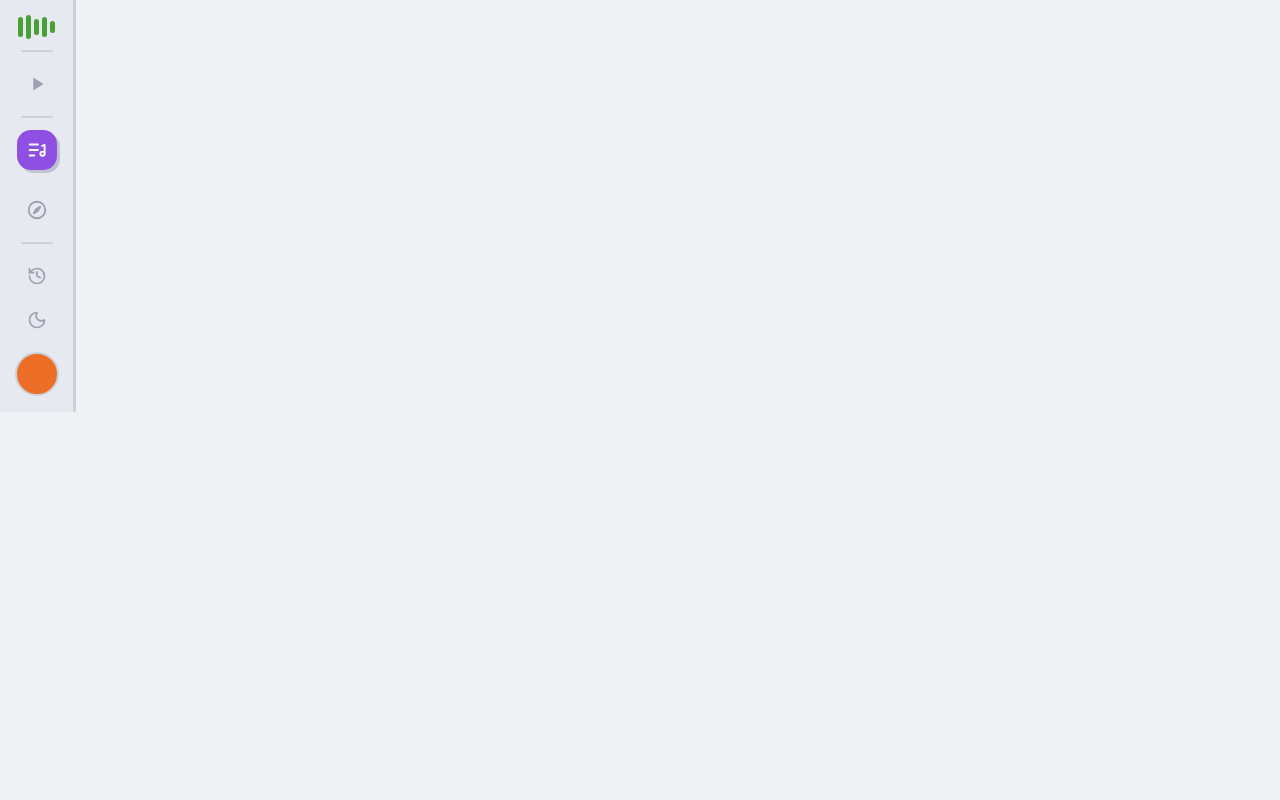
AppSidebar lobby menu › explains an unknown code
The image size is (1280, 800).
Click the button titled "Start or join a lobby".
click(36, 84)  # box [16,64,56,104]
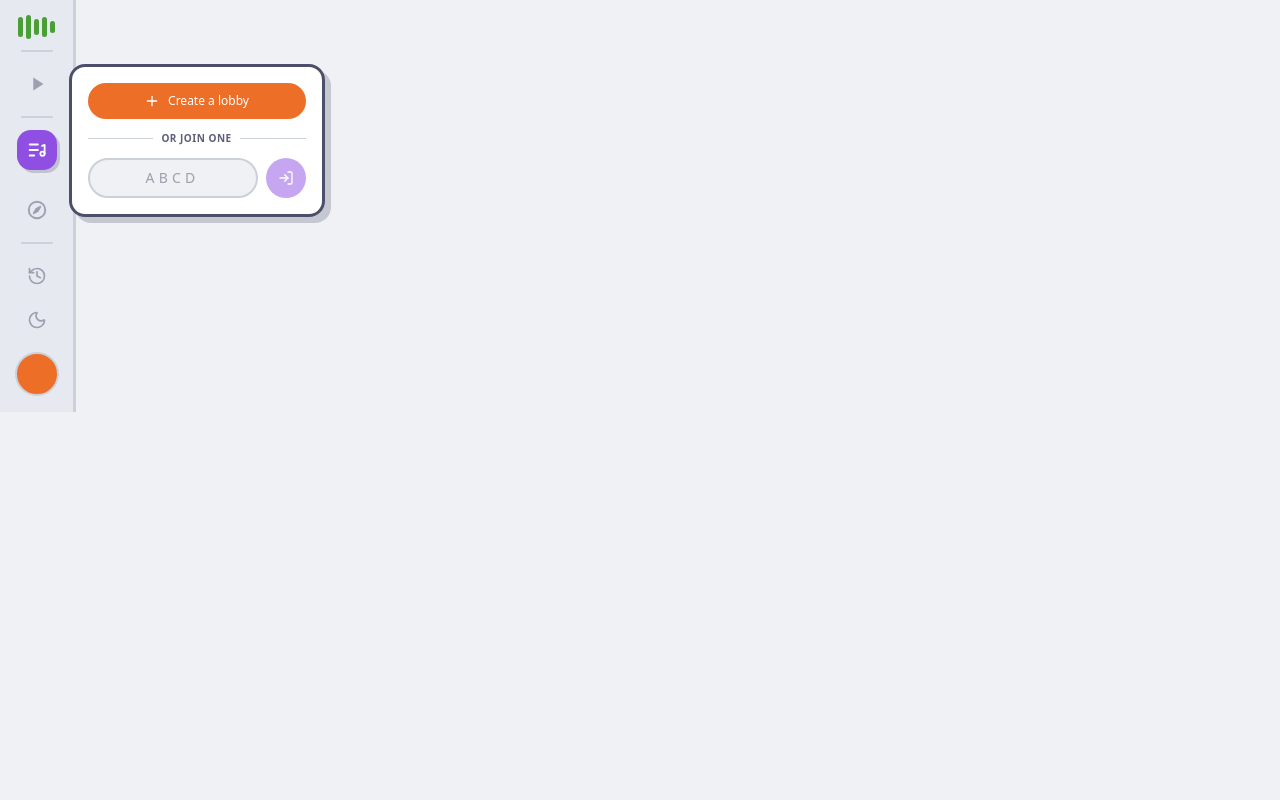
Type "WXYZ" into the field named "Lobby code".
click(172, 178); type("WXYZ")  # box [88,158,258,198]
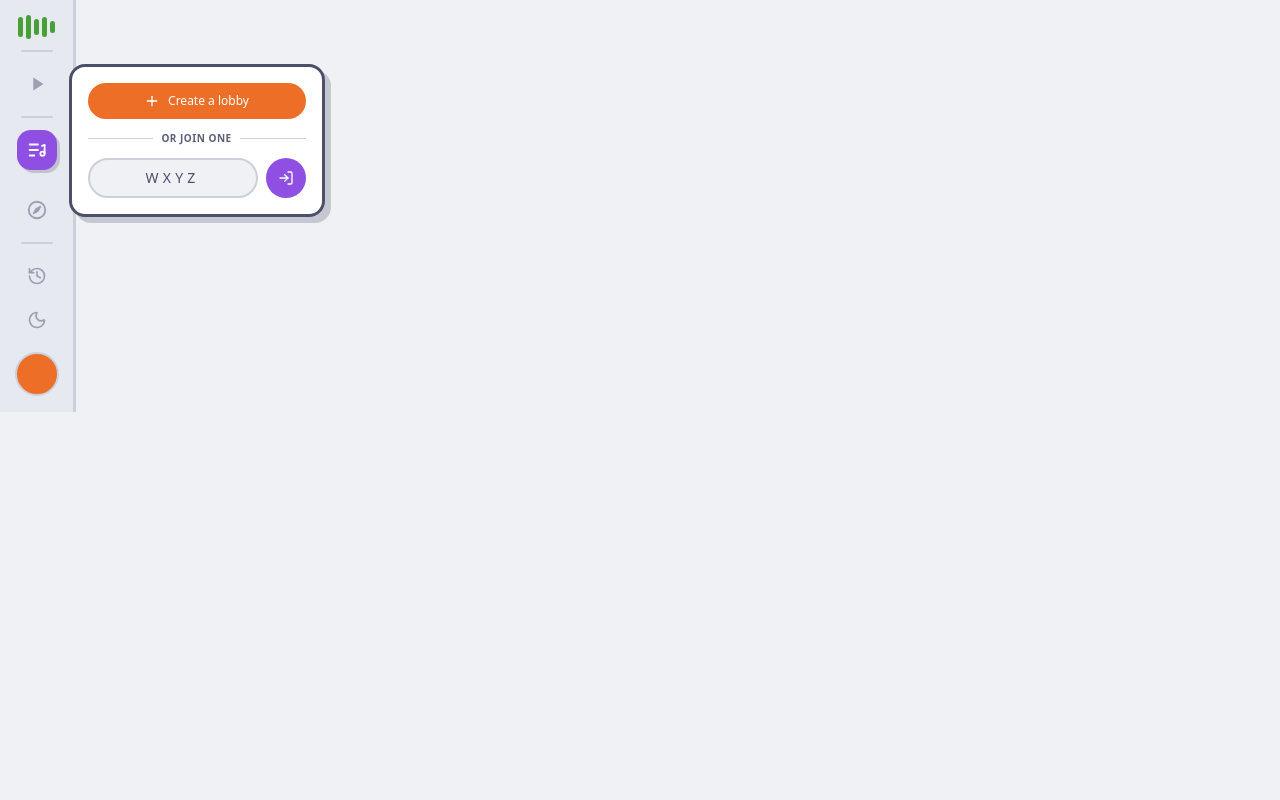
Click the button named "Join lobby".
click(286, 178)  # box [266,158,306,198]
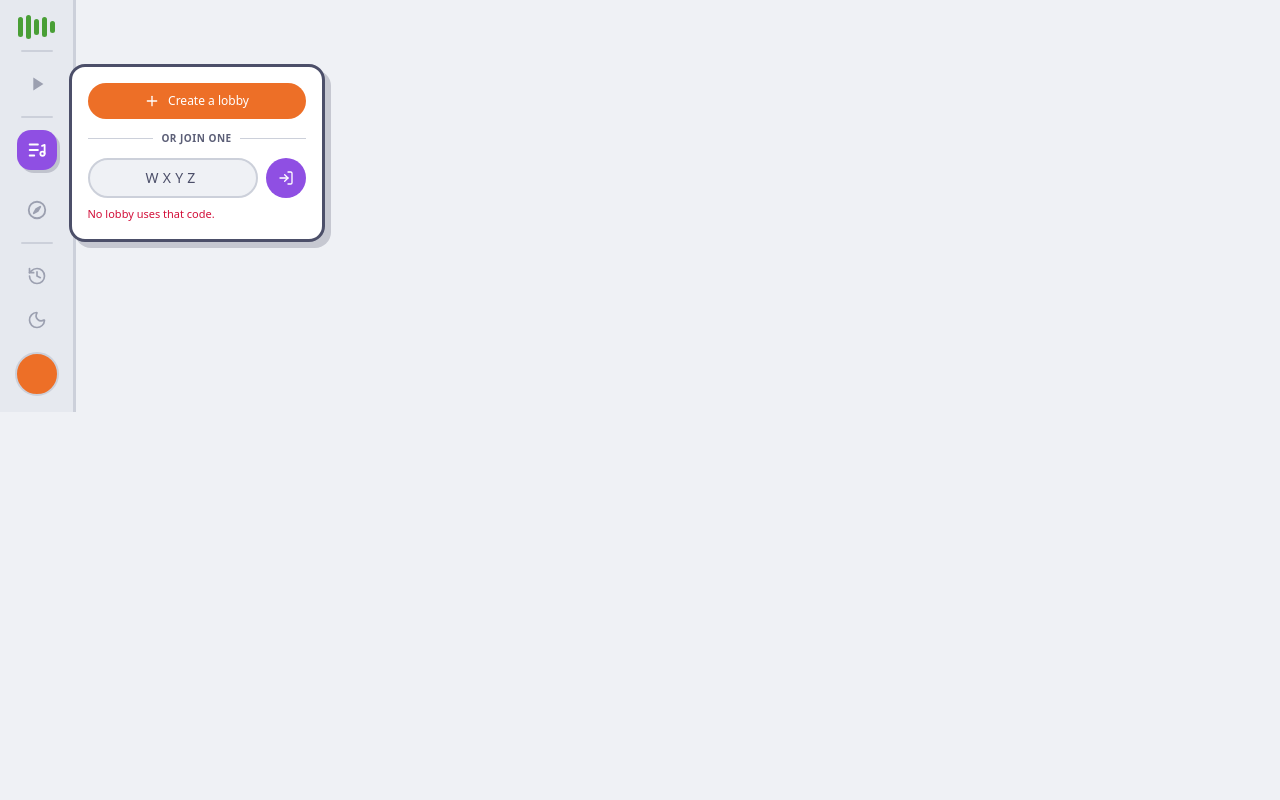
Now the message reads "No lobby uses that code.", box [88,206,215,221]
